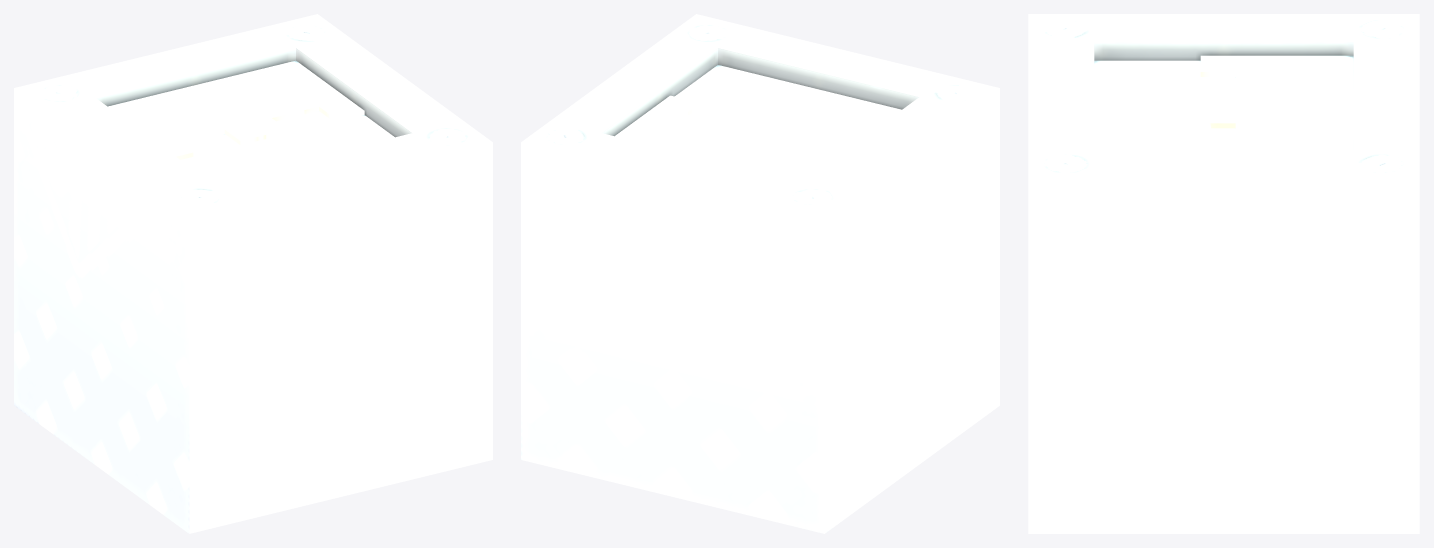
File: Obj_Box_BoxGenarator.fbx
The picture shows the model from 3 angles, left to right: view 1: azimuth 30°, elevation 25°; view 2: azimuth 150°, elevation 25°; view 3: azimuth 270°, elevation 25°; orthographic projection. The views are drawn at different scales.
Visible parts, largest first — view 1: Obj_Box_BoxGenarator; view 2: Obj_Box_BoxGenarator; view 3: Obj_Box_BoxGenarator.
Boxes of the visible parts, x1,y1,x2,y2 form: Obj_Box_BoxGenarator: (14,14,492,533); Obj_Box_BoxGenarator: (521,14,999,533); Obj_Box_BoxGenarator: (1028,14,1419,533).
Bounding box in the file's own units: 2000000 × 2000000 × 2000000.
